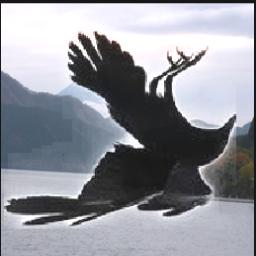Crow: (5, 31, 237, 229)
